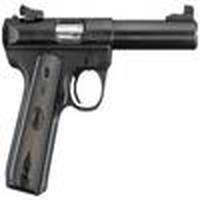gun: (1, 4, 197, 191)
